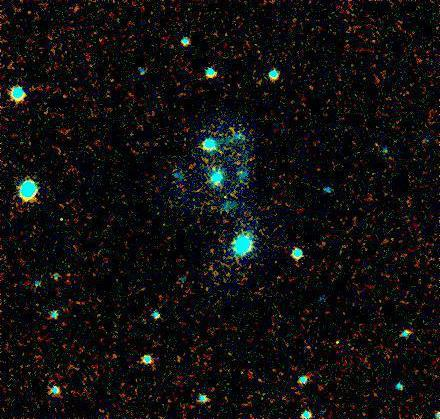star: (211, 183, 241, 213)
